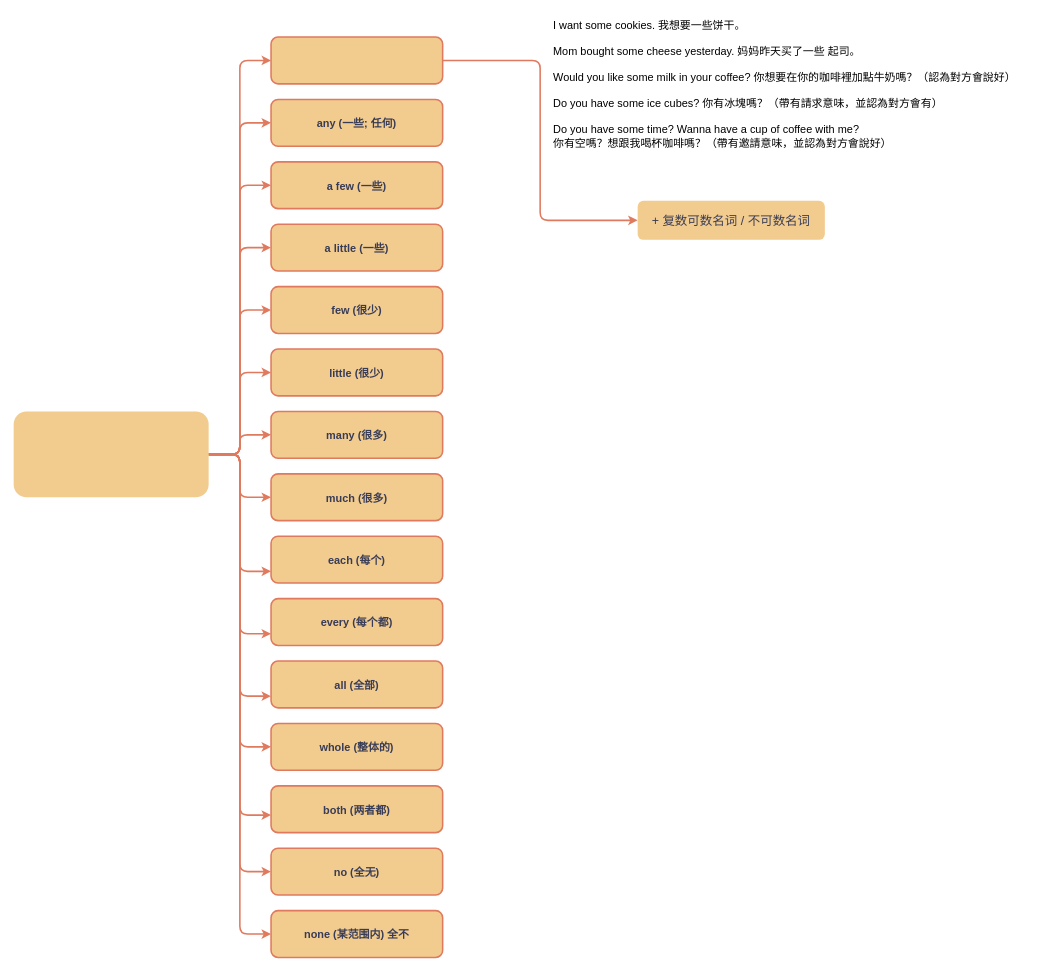
Some shapes in this 1041 by 971 pixel diagram are drawn without their labels. Each missing label, with the box of its shape:
some (一些): (270, 36, 443, 84)
数量词: (13, 411, 208, 497)
